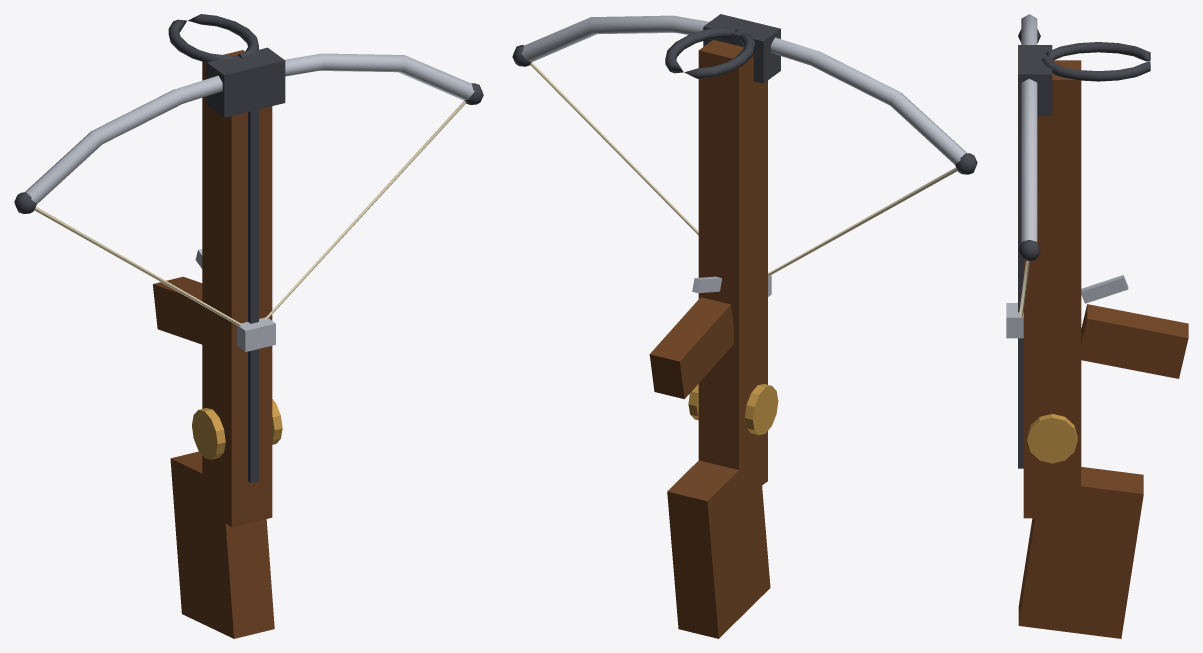
Rendered from crossbow.glb.
3 views of the same model, side by side, from view 1: azimuth 30°, elevation 25°; view 2: azimuth 150°, elevation 25°; view 3: azimuth 270°, elevation 25° (orthographic).
Parts seen in each view (by area): view 1: Crossbow_Wood, Crossbow_Darksteel, Crossbow_Steel, Crossbow_String, Crossbow_Brass; view 2: Crossbow_Wood, Crossbow_Steel, Crossbow_Darksteel, Crossbow_String, Crossbow_Brass; view 3: Crossbow_Wood, Crossbow_Darksteel, Crossbow_Steel, Crossbow_Brass.
Boxes of the visible parts, left/top/right/bottom form: Crossbow_Wood: left=152, top=50, right=274, bottom=638; Crossbow_Darksteel: left=14, top=14, right=483, bottom=482; Crossbow_Steel: left=25, top=53, right=474, bottom=351; Crossbow_String: left=34, top=100, right=466, bottom=325; Crossbow_Brass: left=192, top=399, right=282, bottom=459; Crossbow_Wood: left=649, top=39, right=770, bottom=638; Crossbow_Steel: left=521, top=15, right=966, bottom=296; Crossbow_Darksteel: left=512, top=14, right=977, bottom=174; Crossbow_String: left=530, top=62, right=957, bottom=276; Crossbow_Brass: left=688, top=384, right=778, bottom=435; Crossbow_Wood: left=1018, top=60, right=1188, bottom=638; Crossbow_Darksteel: left=1018, top=29, right=1150, bottom=468; Crossbow_Steel: left=1006, top=14, right=1128, bottom=338; Crossbow_Brass: left=1027, top=414, right=1077, bottom=463.
Size of the model in its own units: 0.46 by 0.5486 by 0.1582.
